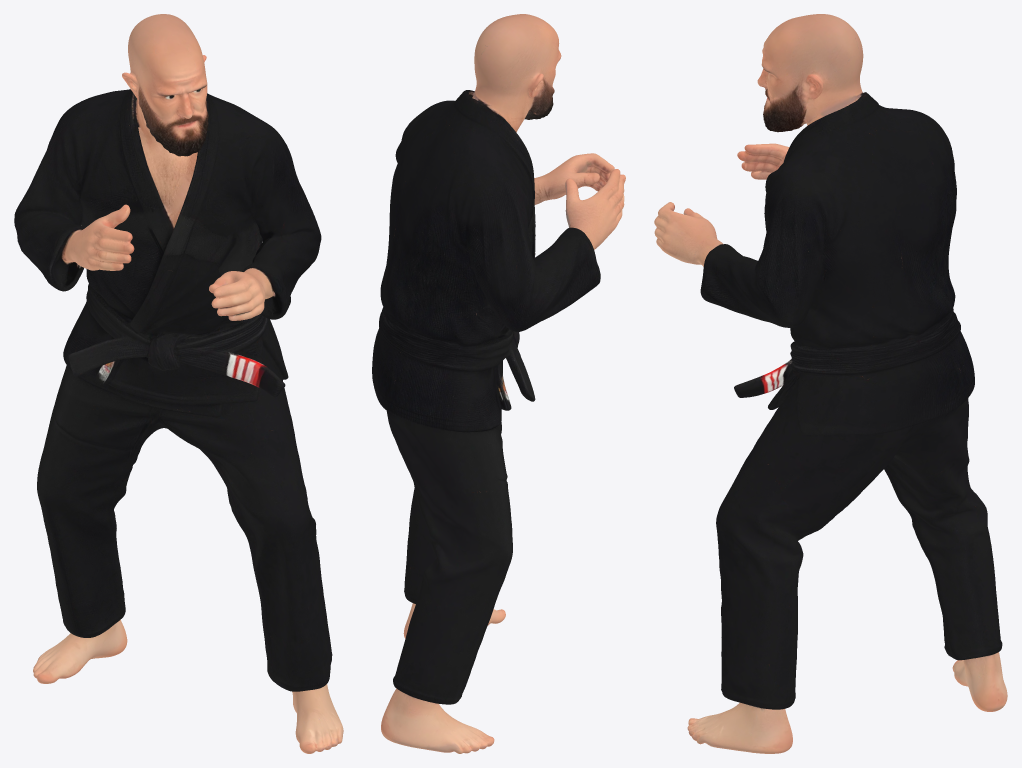
File: bjj-athlete.glb
The picture shows the model from 3 angles, left to right: view 1: azimuth 30°, elevation 25°; view 2: azimuth 150°, elevation 25°; view 3: azimuth 270°, elevation 25°; orthographic projection. The views are drawn at different scales.
Bounding box in the file's own units: 0.6785 × 1.9 × 0.9009.
1 material, 1 textured.
